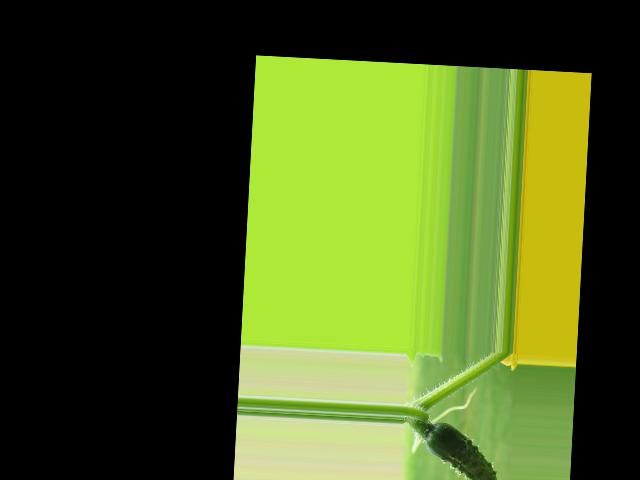cucumber: (423, 420, 502, 480)
